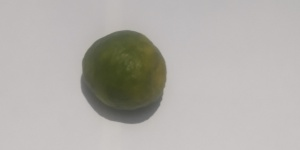BAD: (82, 32, 166, 107)
